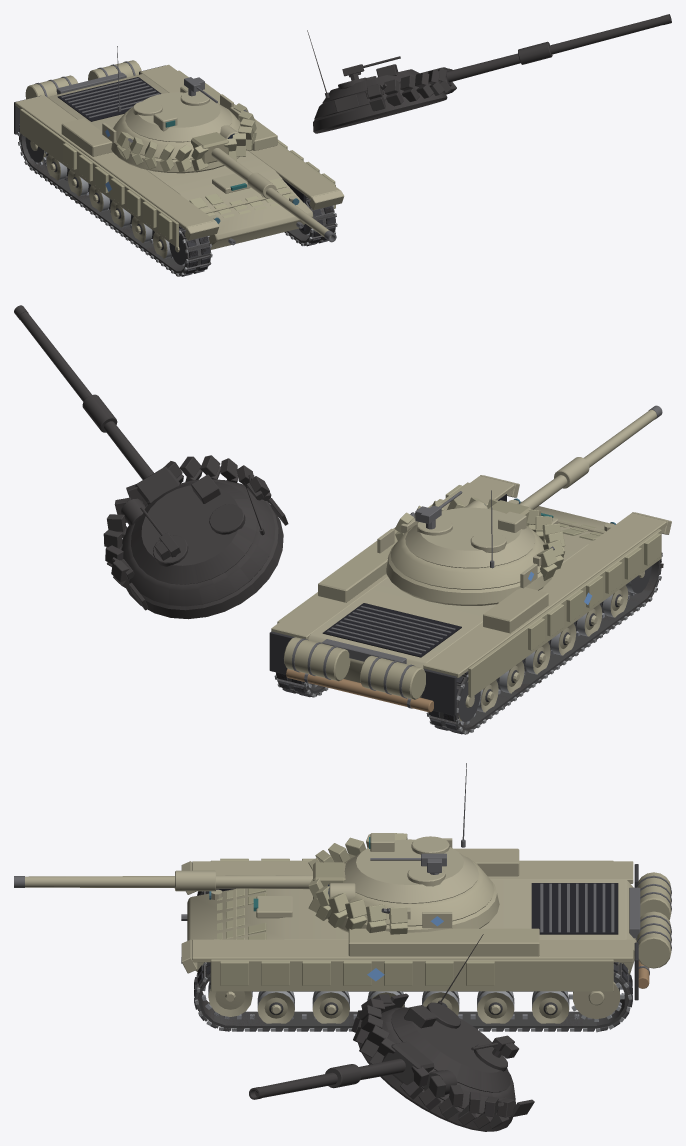
File: tank__t_64bv.glb
3 renders of one model, top to bottom at view 1: azimuth 30°, elevation 25°; view 2: azimuth 150°, elevation 25°; view 3: azimuth 270°, elevation 25°, orthographic. The views are drawn at different scales.
Visible parts, largest first — view 1: Hull_Mesh, Wreck, Turret_Mesh, Track_L_Mesh, Gun_Mesh, Track_R_Mesh; view 2: Hull_Mesh, Wreck, Turret_Mesh, Track_L_Mesh, Gun_Mesh, Track_R_Mesh; view 3: Hull_Mesh, Wreck, Turret_Mesh, Track_R_Mesh, Gun_Mesh, Sprocket_R_Mesh, Wheel_R1_Mesh, Wheel_R4_Mesh, Wheel_R5_Mesh, Wheel_R0_Mesh, Idler_R_Mesh, Commander_MG_Mesh (+3 smaller).
Boxes of the visible parts, bbox=[...] form: Hull_Mesh: bbox=[14, 60, 344, 249]; Wreck: bbox=[18, 14, 671, 276]; Turret_Mesh: bbox=[102, 92, 256, 173]; Track_L_Mesh: bbox=[17, 124, 212, 276]; Gun_Mesh: bbox=[191, 132, 336, 242]; Track_R_Mesh: bbox=[286, 197, 337, 246]; Hull_Mesh: bbox=[269, 475, 671, 715]; Wreck: bbox=[14, 305, 663, 734]; Turret_Mesh: bbox=[377, 497, 565, 605]; Track_L_Mesh: bbox=[426, 554, 662, 734]; Gun_Mesh: bbox=[488, 405, 662, 526]; Track_R_Mesh: bbox=[274, 672, 328, 697]; Hull_Mesh: bbox=[181, 848, 671, 1000]; Wreck: bbox=[194, 891, 632, 1131]; Turret_Mesh: bbox=[308, 833, 499, 934]; Track_R_Mesh: bbox=[194, 962, 632, 1032]; Gun_Mesh: bbox=[14, 862, 345, 898]; Sprocket_R_Mesh: bbox=[569, 978, 623, 1021]; Wheel_R1_Mesh: bbox=[477, 991, 514, 1023]; Wheel_R4_Mesh: bbox=[312, 991, 349, 1023]; Wheel_R5_Mesh: bbox=[257, 991, 294, 1023]; Wheel_R0_Mesh: bbox=[532, 991, 569, 1023]; Idler_R_Mesh: bbox=[208, 980, 252, 1016]; Commander_MG_Mesh: bbox=[370, 853, 446, 874].
Size of what is drawn, in the model's own units: 11.26 by 3.2 by 9.64.
